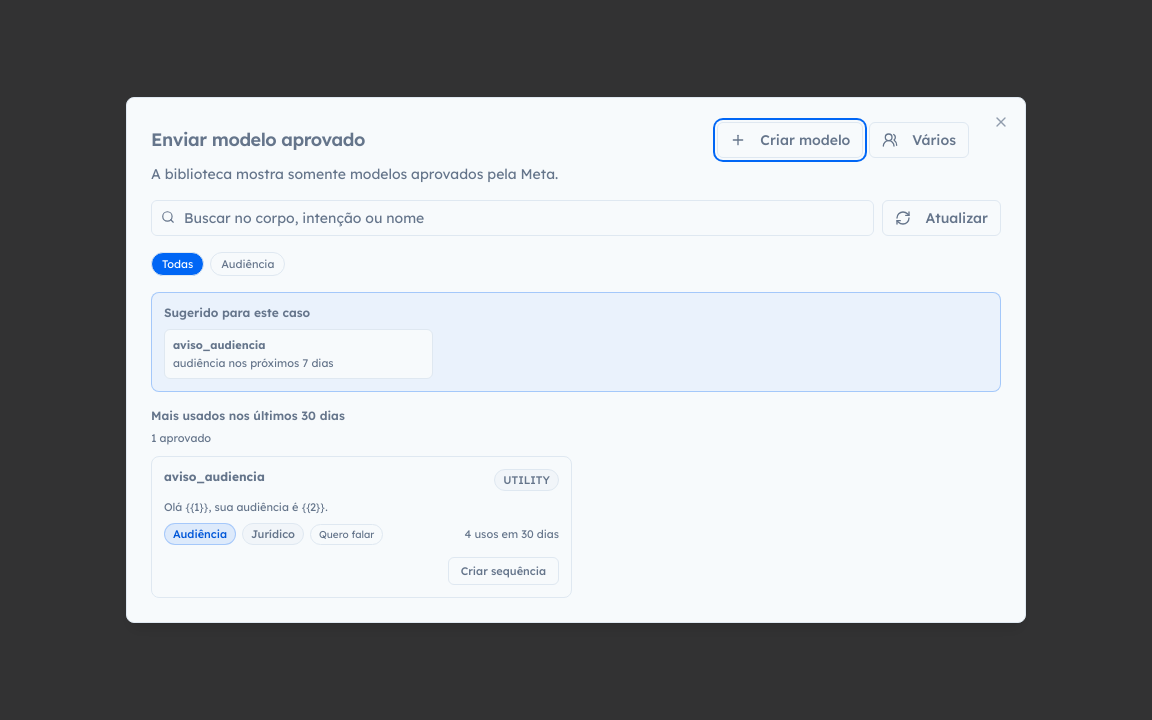
Test: ConversationTemplatePicker › abre a prévia com bindings editáveis e registra estado pós-envio
Later steps or results of the test are not shown.
Click the text "aviso_audiencia" below "Sugerido para este caso". click: (219, 345)
box: top-left (173, 338), bottom-right (265, 352)
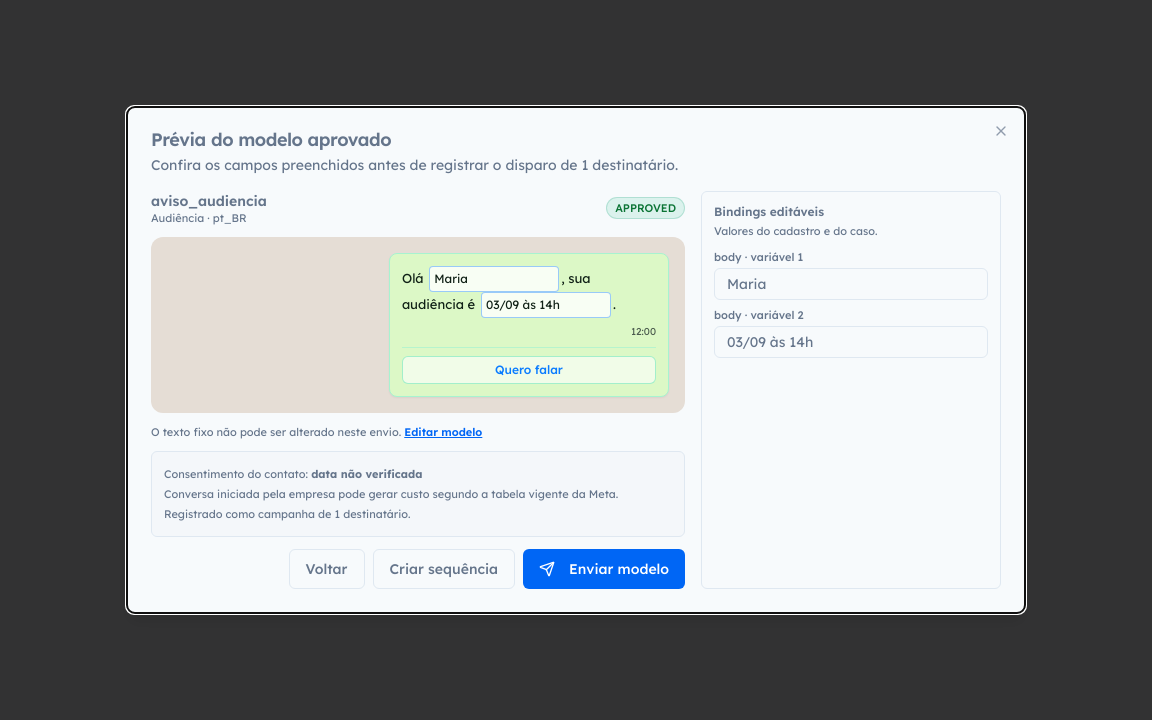
Result: the heading "Prévia do modelo aprovado" is shown at top-left (151, 131), bottom-right (391, 149)
